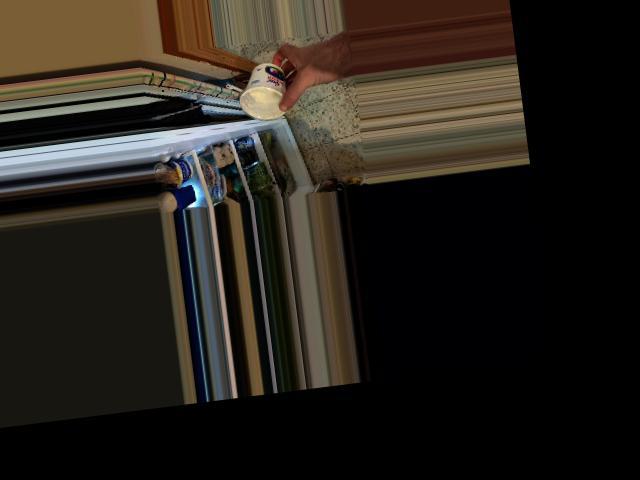cotage: (229, 63, 290, 120)
